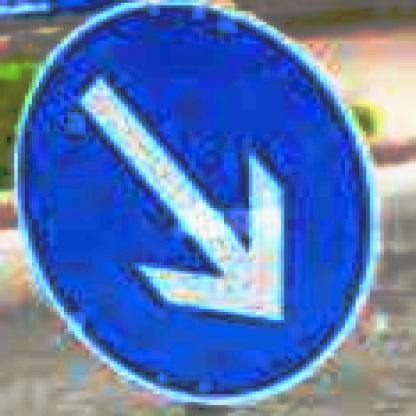Keep right: (20, 6, 379, 396)
